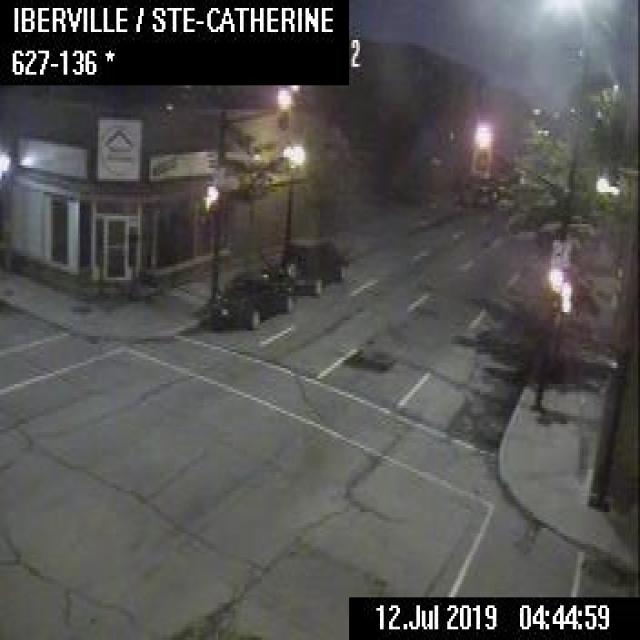vehicle: (202, 266, 292, 328), (279, 235, 348, 292)
